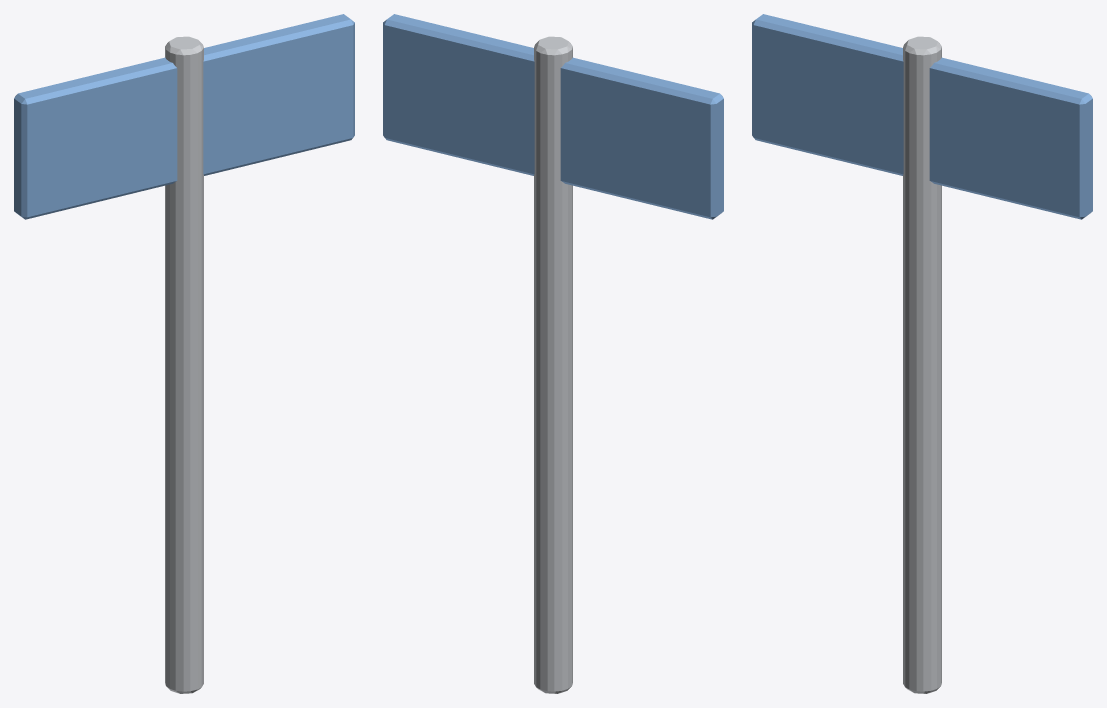
3 views of the same model, side by side, from view 1: azimuth 30°, elevation 25°; view 2: azimuth 150°, elevation 25°; view 3: azimuth 330°, elevation 25° (orthographic).
Visible parts, largest first — view 1: 牌面, 立杆; view 2: 牌面, 立杆; view 3: 牌面, 立杆.
Part boxes in pixels (x1,y1,x2,y2): 牌面: [14, 14, 354, 219]; 立杆: [165, 36, 203, 693]; 牌面: [383, 14, 723, 219]; 立杆: [534, 36, 572, 693]; 牌面: [752, 14, 1092, 219]; 立杆: [903, 36, 941, 693].
Size of the model in its own units: 130 by 240 by 12.85.
